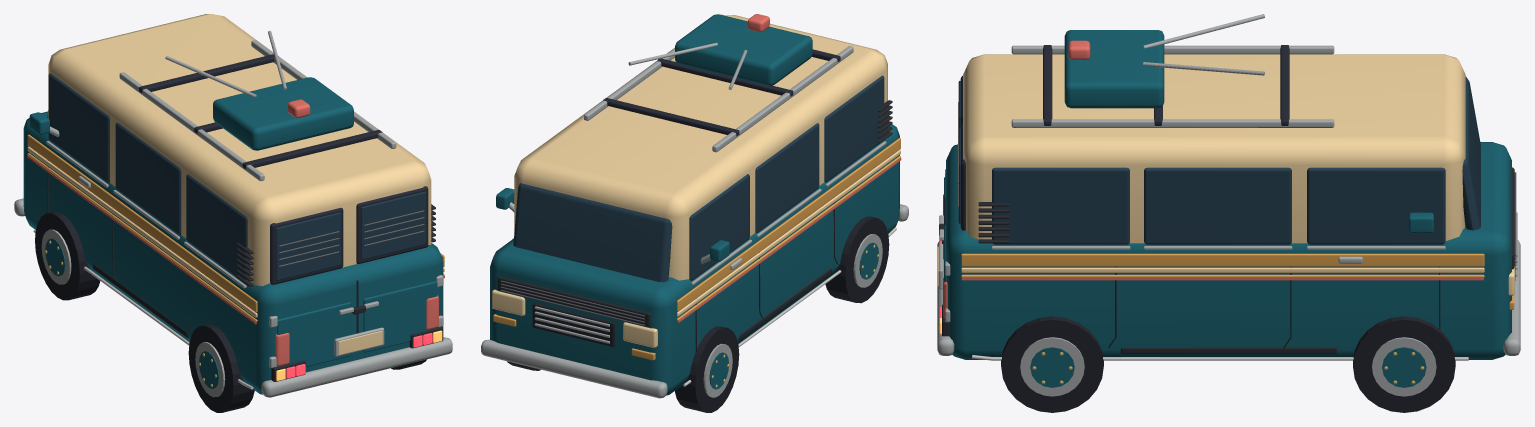
File: relay-van.glb
The picture shows the model from 3 angles, left to right: view 1: azimuth 30°, elevation 25°; view 2: azimuth 150°, elevation 25°; view 3: azimuth 270°, elevation 25°; orthographic projection. The views are drawn at different scales.
Parts seen in each view (by area): view 1: van_body_surface, van_wheel_LR_surface, van_wheel_LF_surface; view 2: van_body_surface, van_wheel_LF_surface, van_wheel_LR_surface; view 3: van_body_surface, van_wheel_RF_surface, van_wheel_RR_surface.
Boxes of the visible parts, x1=… form: van_body_surface: x1=14, y1=14, x2=452, y2=397; van_wheel_LR_surface: x1=188, y1=324, x2=254, y2=412; van_wheel_LF_surface: x1=35, y1=211, x2=100, y2=300; van_body_surface: x1=481, y1=14, x2=908, y2=398; van_wheel_LF_surface: x1=674, y1=326, x2=739, y2=412; van_wheel_LR_surface: x1=825, y1=216, x2=889, y2=303; van_body_surface: x1=937, y1=14, x2=1520, y2=360; van_wheel_RF_surface: x1=1353, y1=316, x2=1455, y2=412; van_wheel_RR_surface: x1=1001, y1=316, x2=1103, y2=412.
Bounding box in the file's own units: 2.5 × 2.85 × 4.79.
